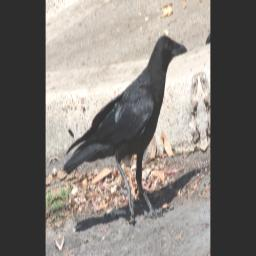Crow: (56, 23, 200, 250)
